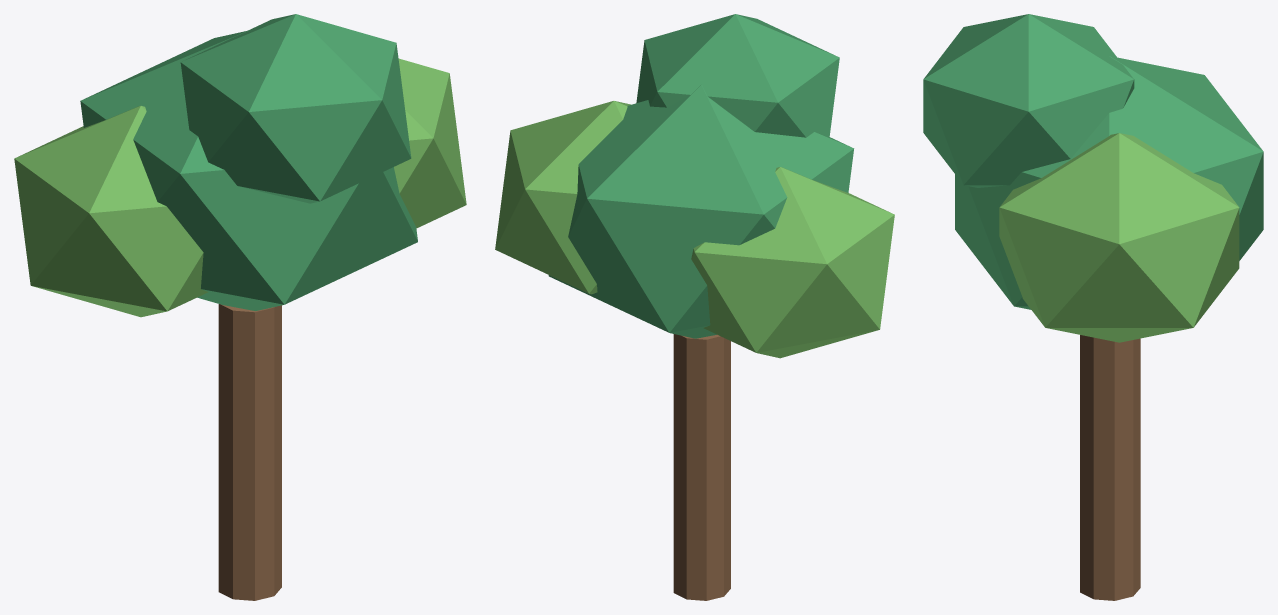
The model's file is tree.glb.
3 renders of one model, left to right at view 1: azimuth 30°, elevation 25°; view 2: azimuth 150°, elevation 25°; view 3: azimuth 270°, elevation 25°, orthographic. The views are drawn at different scales.
Parts seen in each view (by area): view 1: tree_canopy.003, tree_canopy, tree_canopy.001, tree_trunk, tree_canopy.002; view 2: tree_canopy, tree_canopy.001, tree_canopy.003, tree_trunk, tree_canopy.002; view 3: tree_canopy.002, tree_canopy.003, tree_canopy, tree_trunk.
Boxes of the visible parts, bbox=[...] form: tree_canopy.003: bbox=[180, 14, 411, 203]; tree_canopy: bbox=[80, 30, 417, 310]; tree_canopy.001: bbox=[14, 105, 208, 317]; tree_trunk: bbox=[218, 304, 281, 600]; tree_canopy.002: bbox=[394, 58, 466, 228]; tree_canopy: bbox=[548, 84, 854, 338]; tree_canopy.001: bbox=[691, 167, 894, 358]; tree_canopy.003: bbox=[636, 14, 839, 137]; tree_trunk: bbox=[673, 334, 730, 600]; tree_canopy.002: bbox=[495, 101, 630, 294]; tree_canopy.002: bbox=[999, 133, 1239, 342]; tree_canopy.003: bbox=[923, 14, 1134, 187]; tree_canopy: bbox=[955, 56, 1263, 309]; tree_trunk: bbox=[1080, 335, 1140, 600].
Size of the model in its own units: 4.53 by 6.31 by 3.38.
